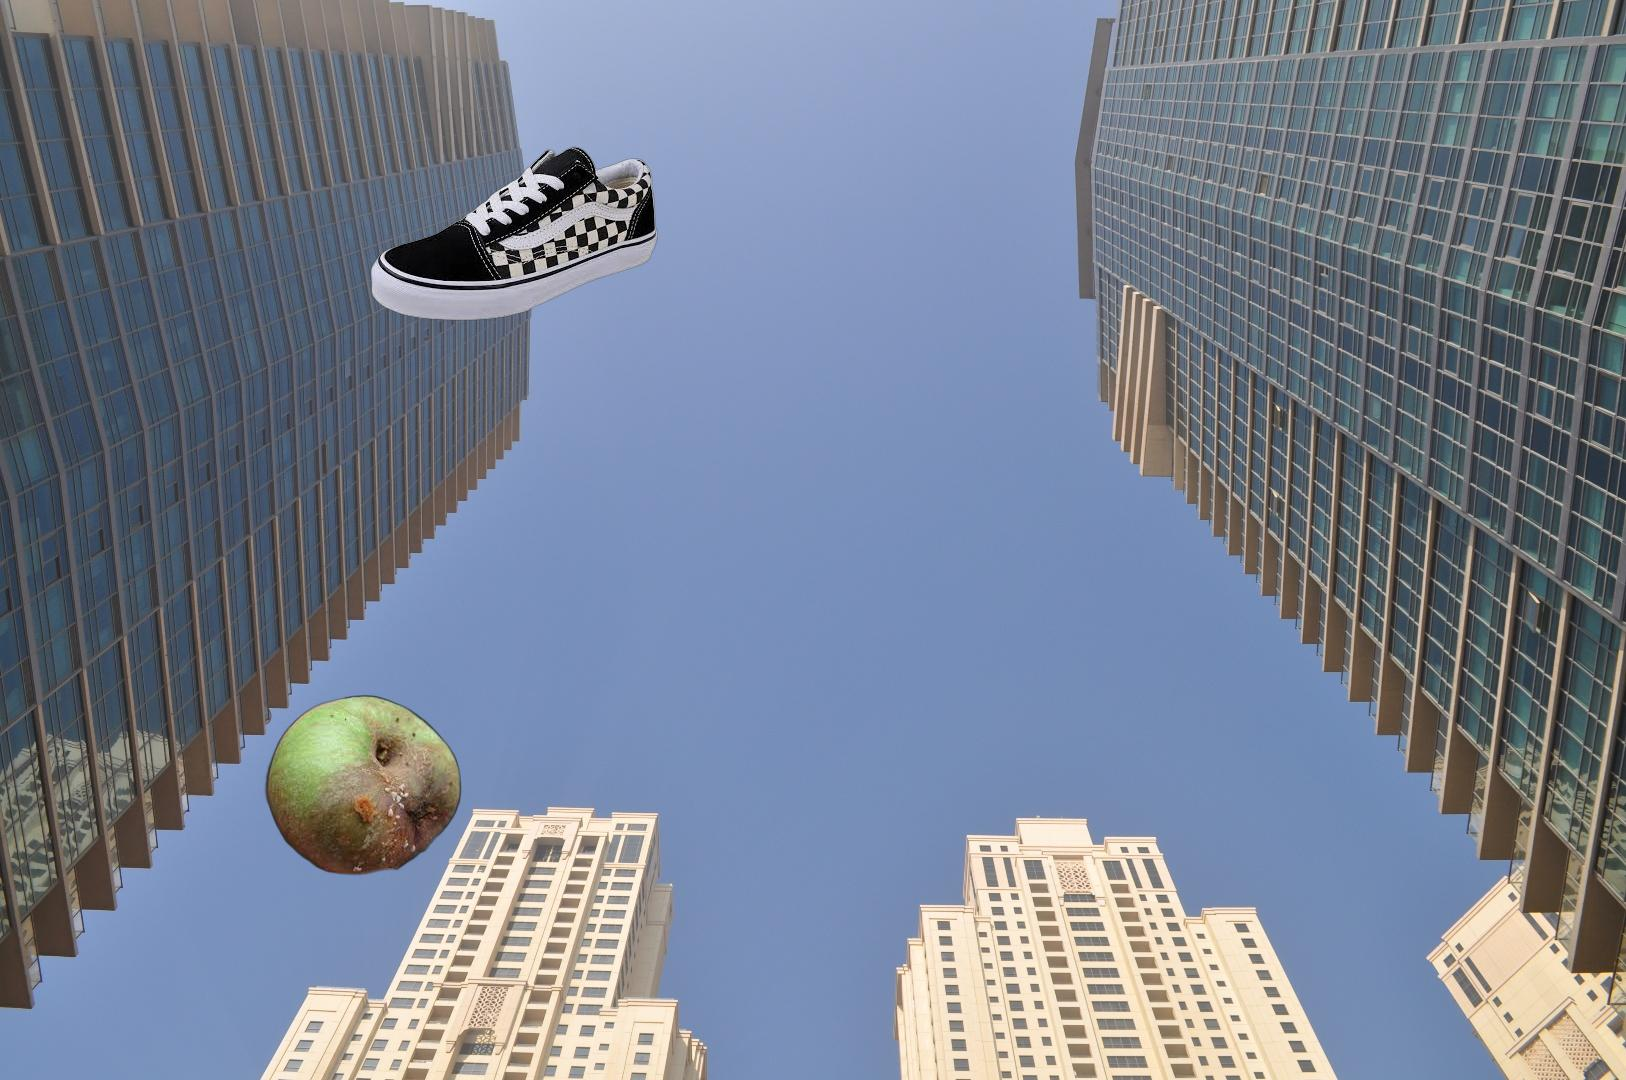biological: (262, 693, 464, 877)
shoes: (370, 146, 658, 321)
